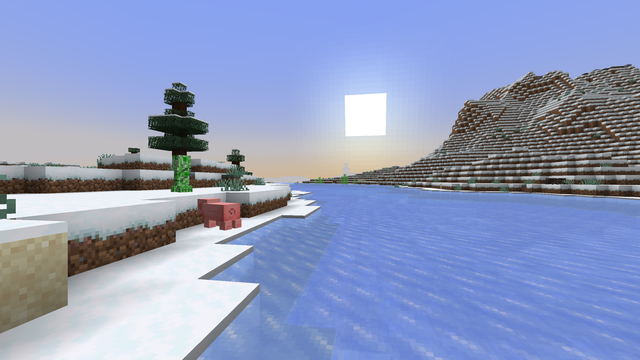araignees: (545, 177, 568, 185)
cochons: (199, 201, 240, 234)
creepers: (169, 153, 192, 195)
